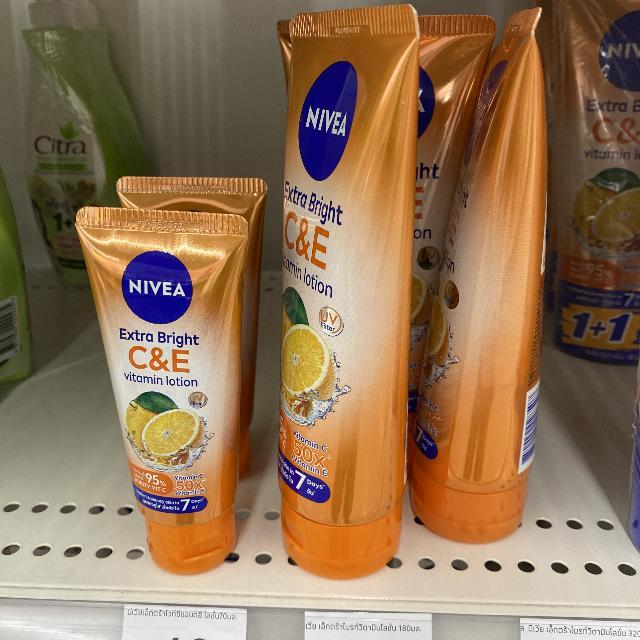Squeeze Tube: (252, 0, 579, 603), (50, 146, 293, 593)
